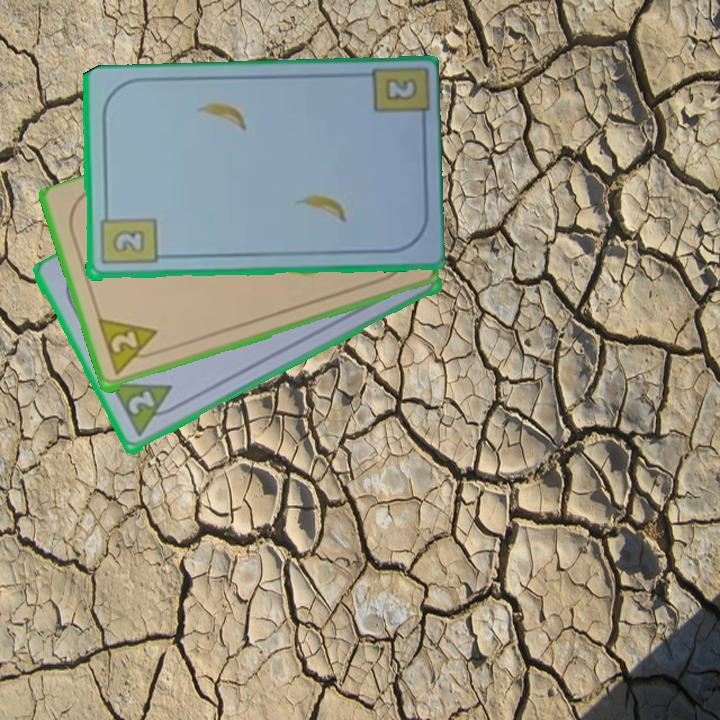2b: (96, 206, 159, 268), (381, 74, 421, 104)
2p: (108, 379, 184, 441), (94, 316, 165, 380)
